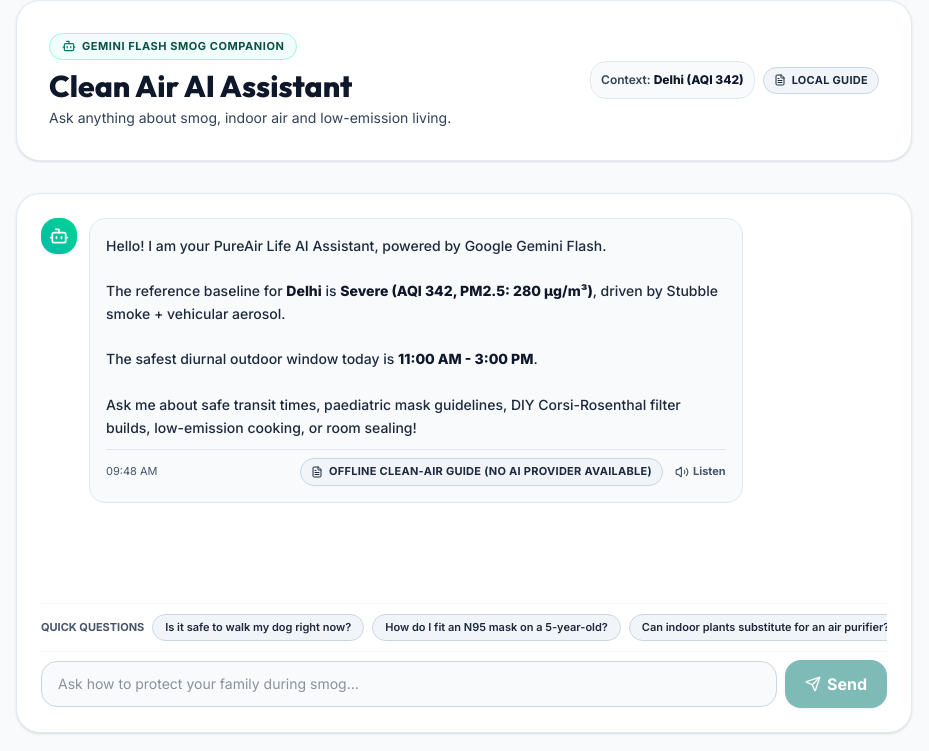
Scenario: Assistant chat interaction › sends a typed question and shows the answer
The width and height of the screenshot is (929, 751).
Step 1. Type "How can I protect my family during smog?" into the field named "ask the clean air assistant" → (409,684), box [41,660,777,706]
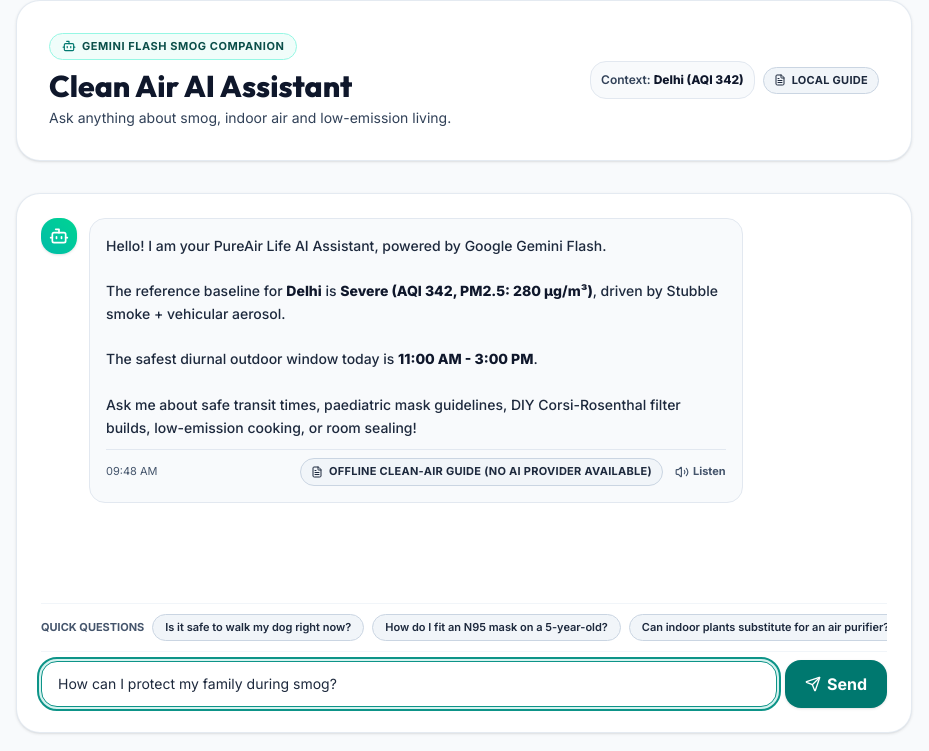
Step 2. Click the button "Send" → (836,684), box [785,660,887,708]
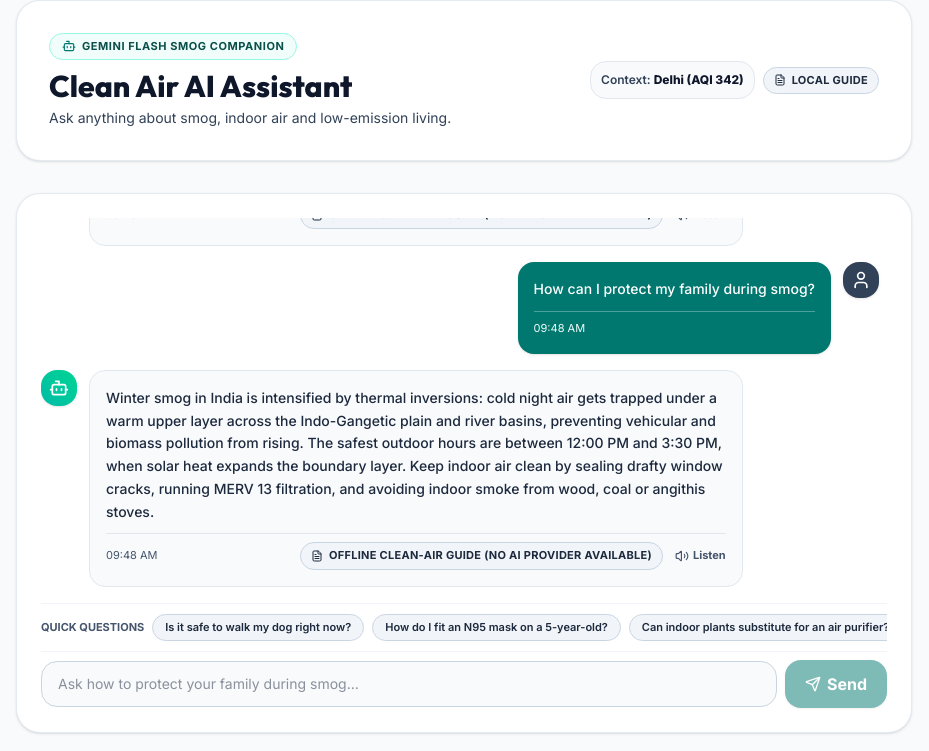
expect the text "How can I protect my family during smog?" is shown: met, box [534,280,815,297]
expect the text "thermal inversion" is shown: met, box [106,389,723,520]
